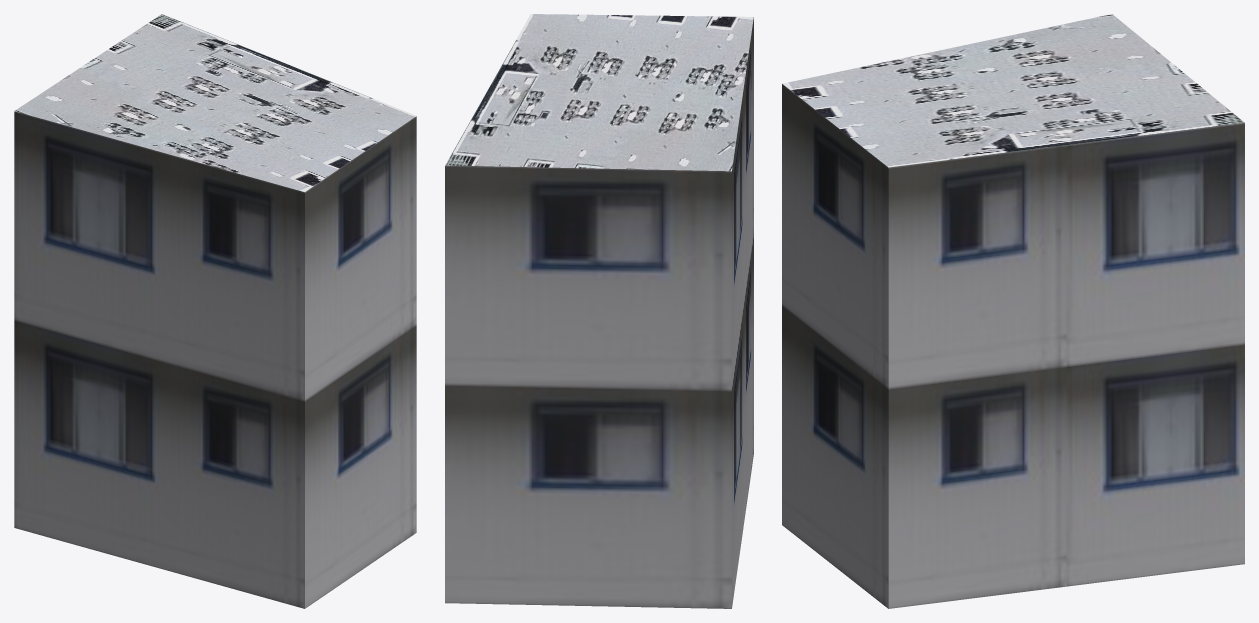
The model's file is ResTex__533.fbx.
3 views of the same model, side by side, from view 1: azimuth 30°, elevation 25°; view 2: azimuth 150°, elevation 25°; view 3: azimuth 270°, elevation 25° (orthographic). The views are drawn at different scales.
Visible parts, largest first — view 1: CityEngineMaterial_9_m, CityEngineMaterial_4_m; view 2: CityEngineMaterial_9_m, CityEngineMaterial_4_m; view 3: CityEngineMaterial_9_m, CityEngineMaterial_4_m.
Part boxes in pixels (x1,y1,x2,y2): CityEngineMaterial_9_m: (14, 111, 416, 608); CityEngineMaterial_4_m: (14, 14, 416, 192); CityEngineMaterial_9_m: (445, 17, 753, 608); CityEngineMaterial_4_m: (445, 14, 753, 171); CityEngineMaterial_9_m: (782, 84, 1244, 608); CityEngineMaterial_4_m: (782, 14, 1244, 167).
Bounding box in the file's own units: 4.48 × 6 × 5.7.
Materials: 2 (2 with a texture image).
